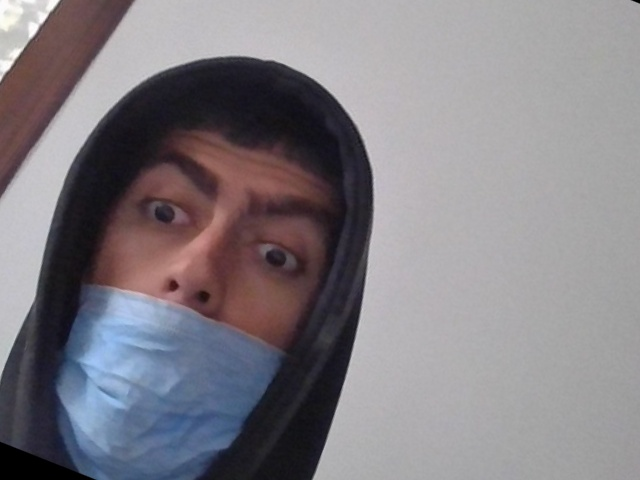mask_weared_incorrect: (59, 110, 326, 474)
